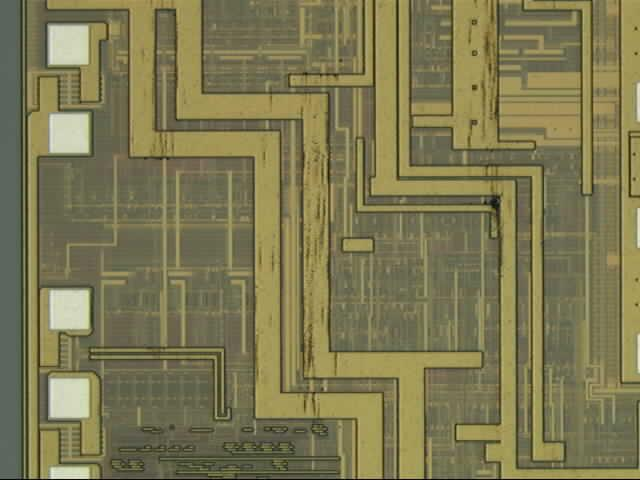SCRATCH: (140, 1, 527, 443)
